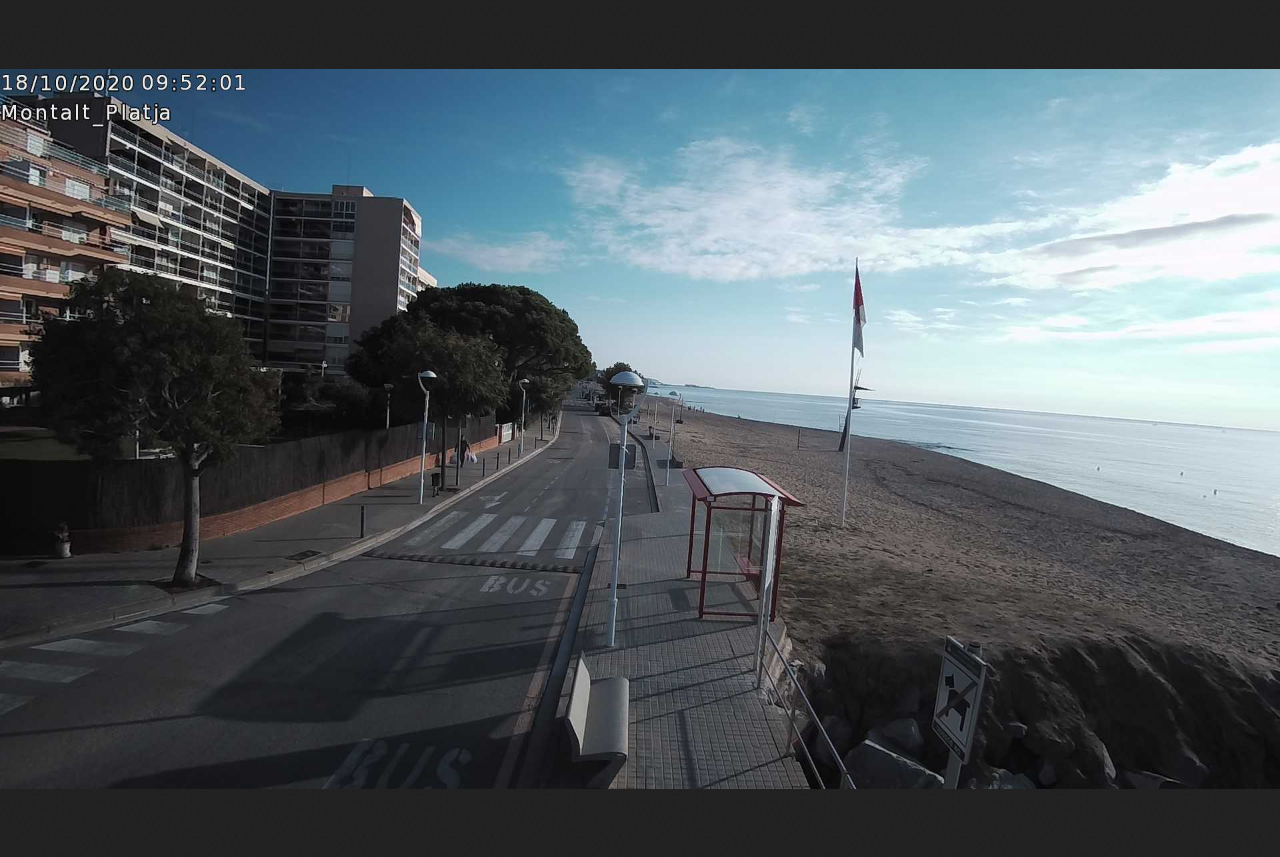no: (843, 251, 876, 361)
